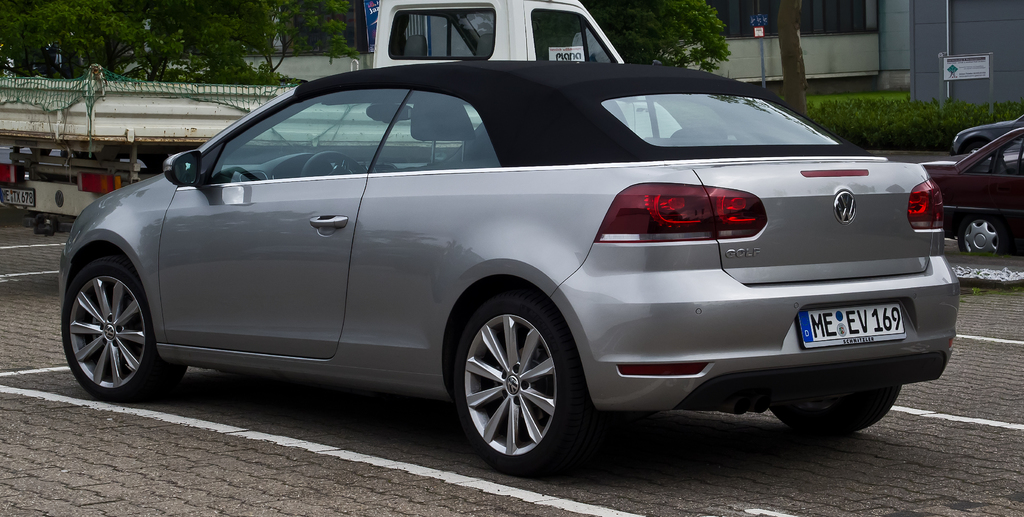Car: (61, 57, 954, 475), (919, 130, 1023, 253), (953, 111, 1023, 151)
